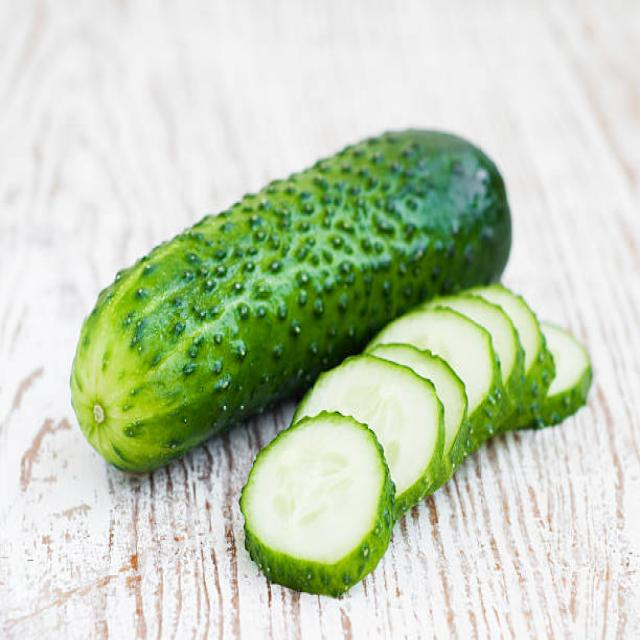cucumber: (71, 124, 515, 476)
